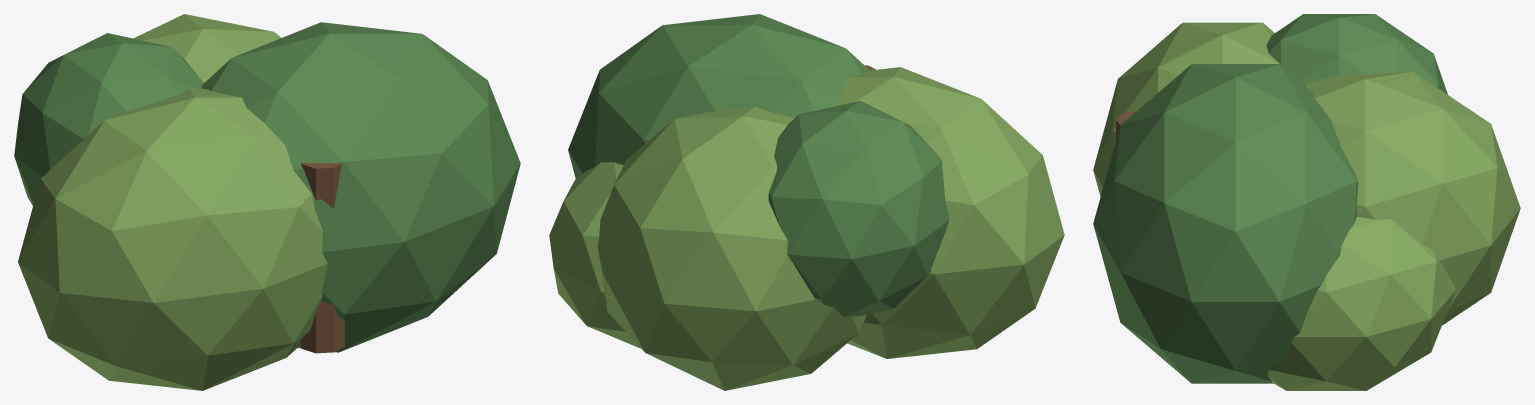
Rendered from bush.glb.
3 views of the same model, side by side, from view 1: azimuth 30°, elevation 25°; view 2: azimuth 150°, elevation 25°; view 3: azimuth 270°, elevation 25° (orthographic). The views are drawn at different scales.
Parts seen in each view (by area): view 1: bush_cluster_00, bush_cluster_01, bush_cluster_03, bush_cluster_02, bush_stem; view 2: bush_cluster_02, bush_cluster_00, bush_cluster_03, bush_cluster_01, bush_cluster_04; view 3: bush_cluster_01, bush_cluster_02, bush_cluster_04, bush_cluster_03, bush_cluster_00.
Part boxes in pixels (box(x1,y1,x2,y2)): bush_cluster_00: box(18, 88, 327, 390); bush_cluster_01: box(201, 22, 520, 352); bush_cluster_03: box(14, 33, 203, 205); bush_cluster_02: box(133, 14, 280, 82); bush_stem: box(299, 163, 344, 353); bush_cluster_02: box(597, 106, 867, 390); bush_cluster_00: box(831, 67, 1064, 358); bush_cluster_03: box(768, 101, 949, 316); bush_cluster_01: box(568, 14, 869, 178); bush_cluster_04: box(549, 162, 641, 348); bush_cluster_01: box(1093, 64, 1358, 383); bush_cluster_02: box(1305, 71, 1520, 325); bush_cluster_04: box(1267, 216, 1455, 390); bush_cluster_03: box(1266, 14, 1447, 94); bush_cluster_00: box(1093, 22, 1279, 196).
Size of the model in its own units: 0.8 by 0.5053 by 0.667.
